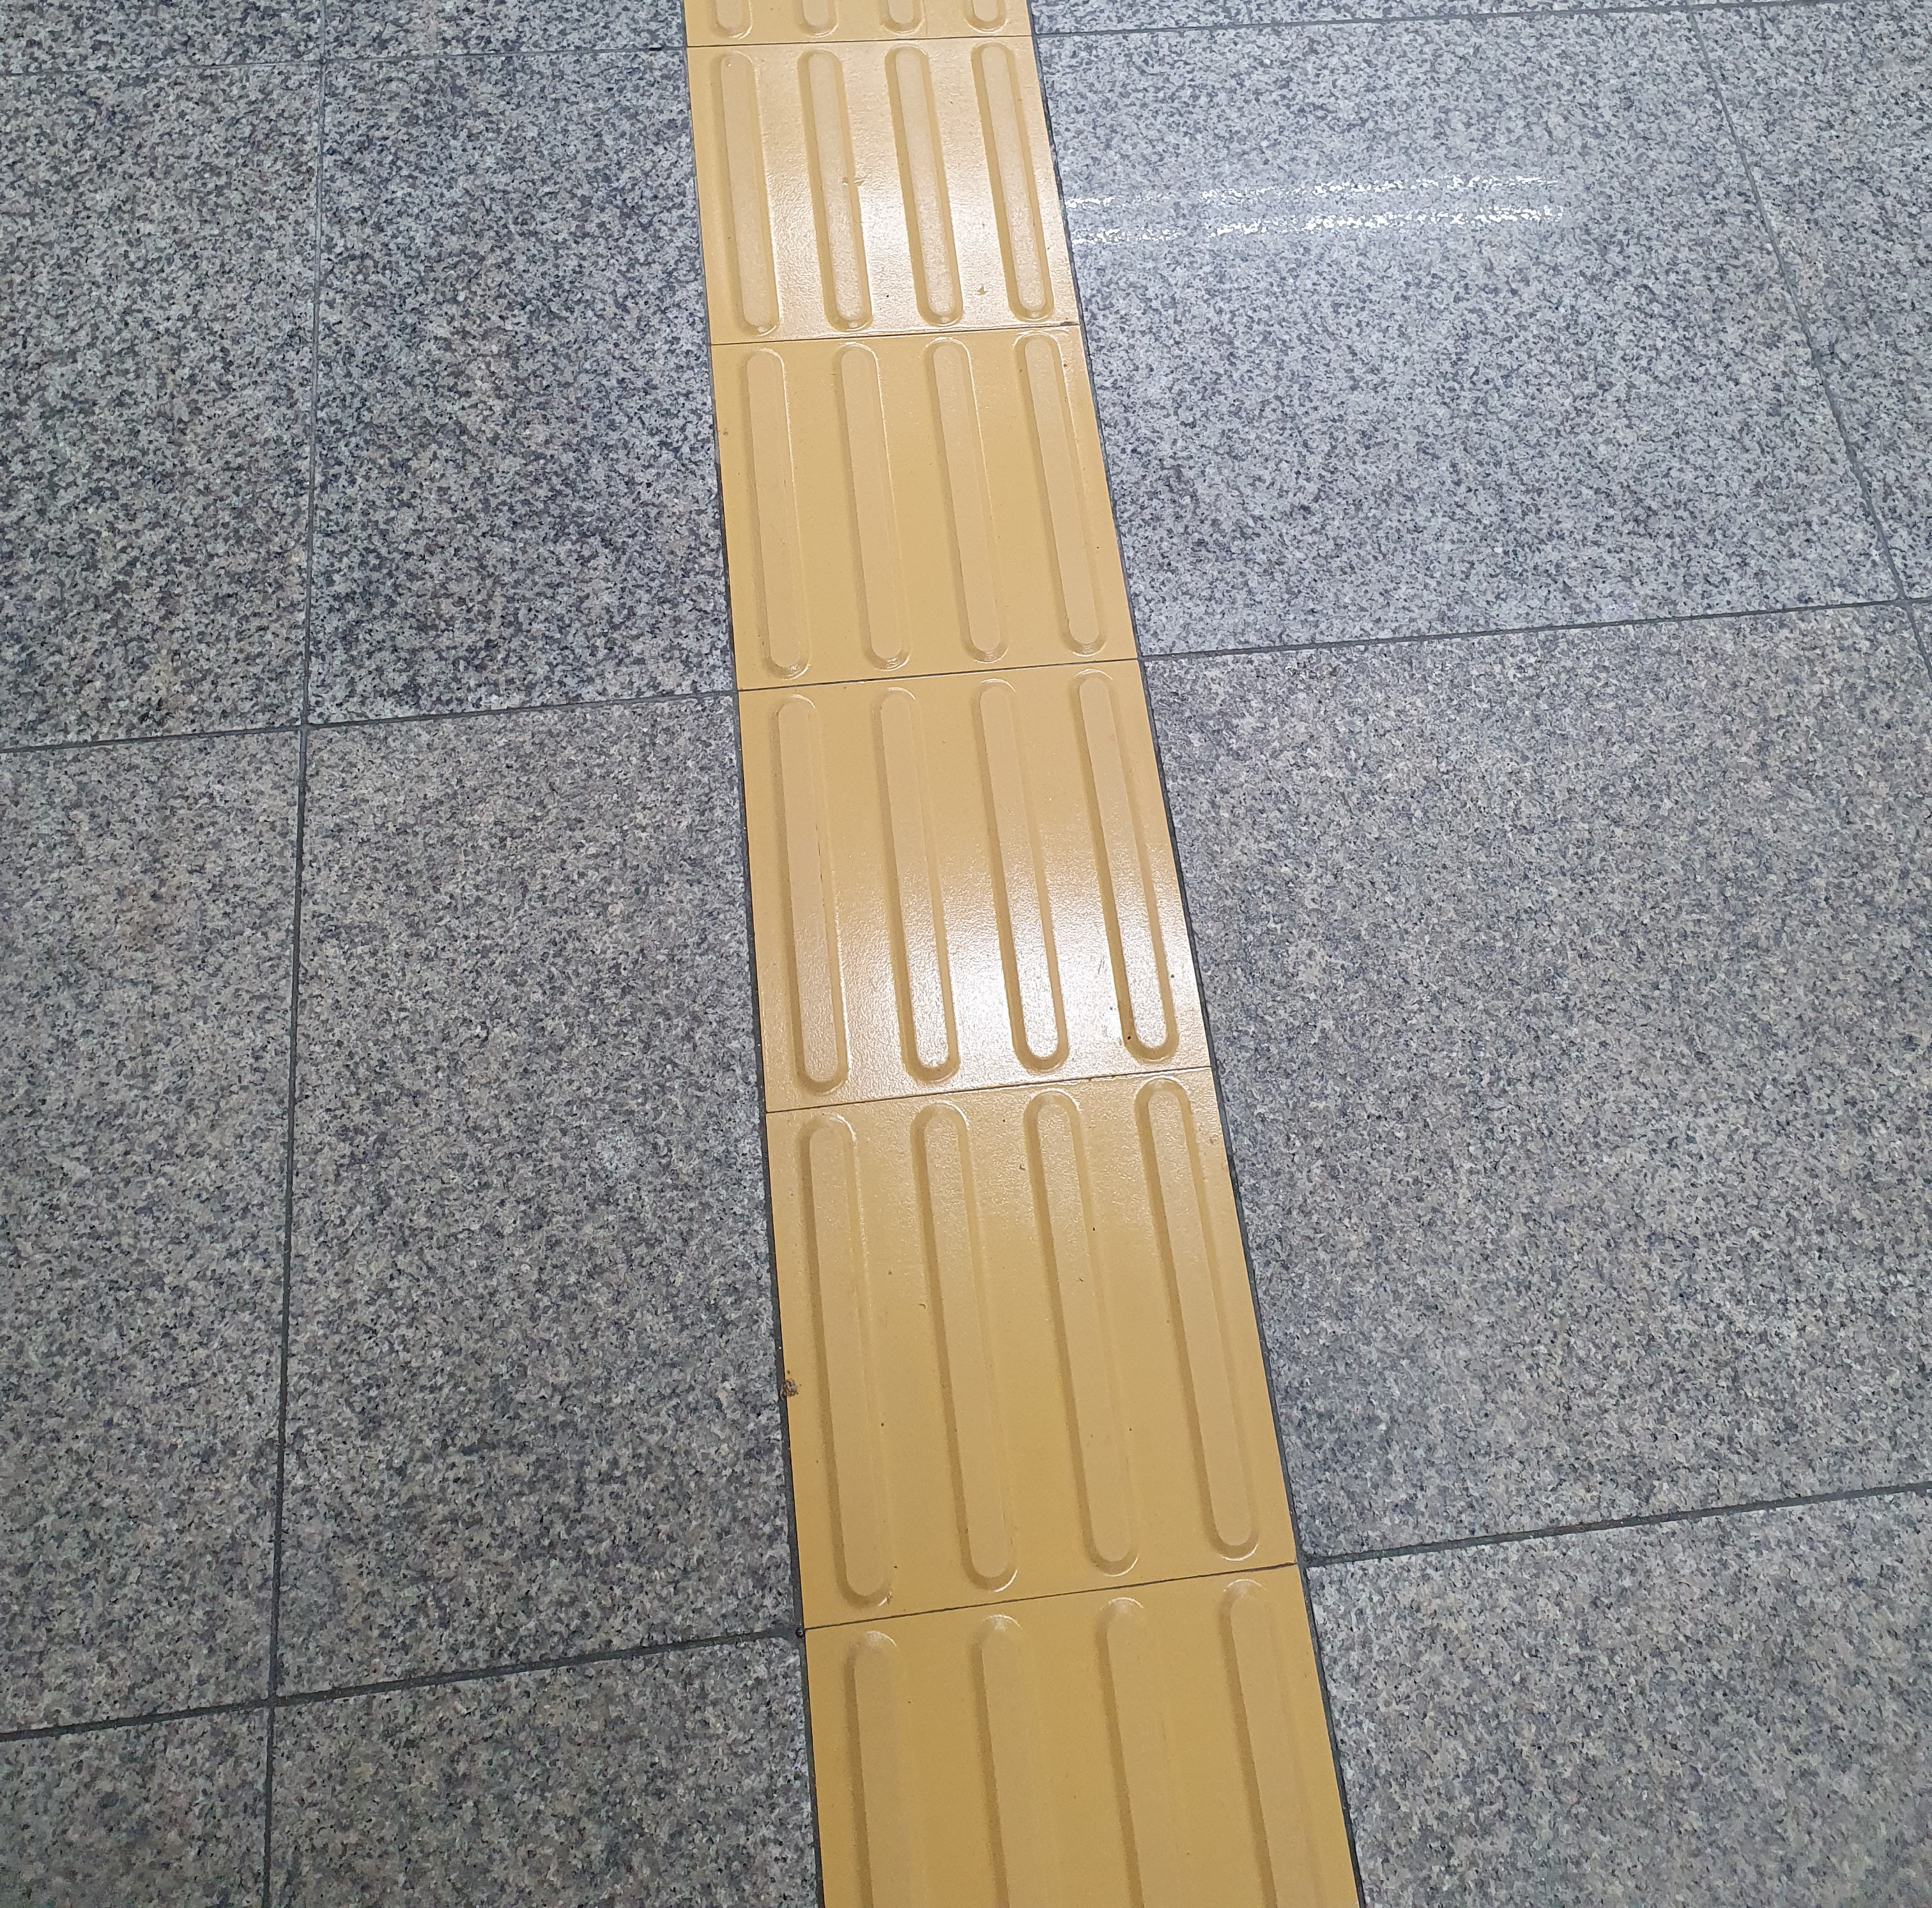guideBlock: (735, 1104, 1310, 1559), (744, 673, 1232, 1080), (840, 1559, 1291, 1908), (671, 31, 1095, 344), (707, 356, 1107, 667)
